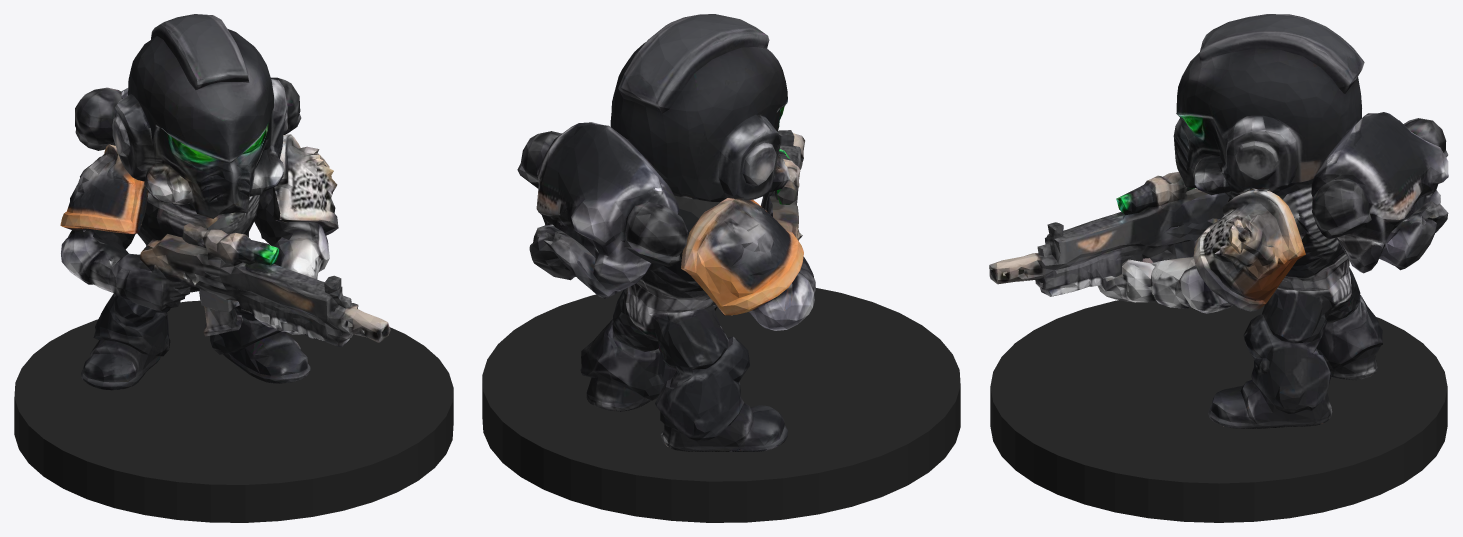
Rendered from dw-intercessor.glb.
The picture shows the model from 3 angles, left to right: view 1: azimuth 30°, elevation 25°; view 2: azimuth 150°, elevation 25°; view 3: azimuth 270°, elevation 25°; orthographic projection. The views are drawn at different scales.
Parts seen in each view (by area): view 1: figure, base; view 2: figure, base; view 3: figure, base.
Part boxes in pixels (x1,y1,x2,y2): figure: [60, 14, 390, 390]; base: [14, 300, 453, 522]; figure: [517, 14, 815, 451]; base: [482, 288, 960, 522]; figure: [989, 14, 1448, 428]; base: [990, 300, 1447, 522].
Size of the model in its own units: 1.26 by 1.22 by 1.26.
2 materials, 1 textured.
